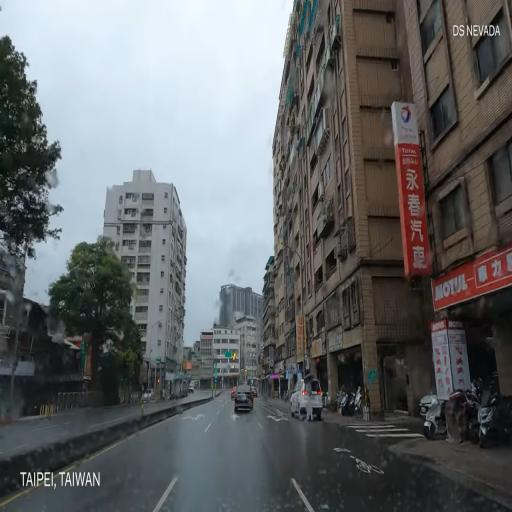Car: (288, 376, 324, 419), (417, 383, 447, 416), (233, 380, 257, 414), (143, 383, 155, 403)
